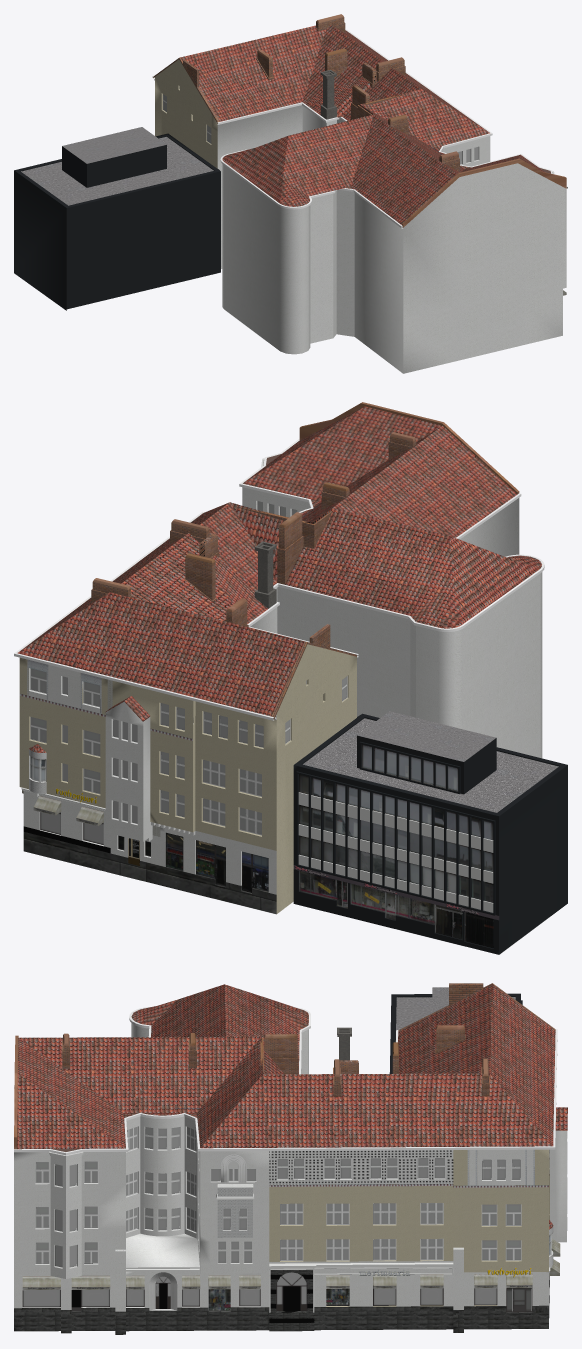
The model's file is kirkkokatu_8.FBX.
3 renders of one model, top to bottom at view 1: azimuth 30°, elevation 25°; view 2: azimuth 150°, elevation 25°; view 3: azimuth 270°, elevation 25°, orthographic. The views are drawn at different scales.
Parts seen in each view (by area): view 1: kirkkokatu_8; view 2: kirkkokatu_8; view 3: kirkkokatu_8.
Boxes of the visible parts, x1,y1,x2,y2 form: kirkkokatu_8: [14, 14, 567, 373]; kirkkokatu_8: [14, 402, 567, 954]; kirkkokatu_8: [14, 983, 567, 1334].
Bounding box in the file's own units: 4834 × 5183 × 2482.
Materials: 27 (27 with a texture image).
